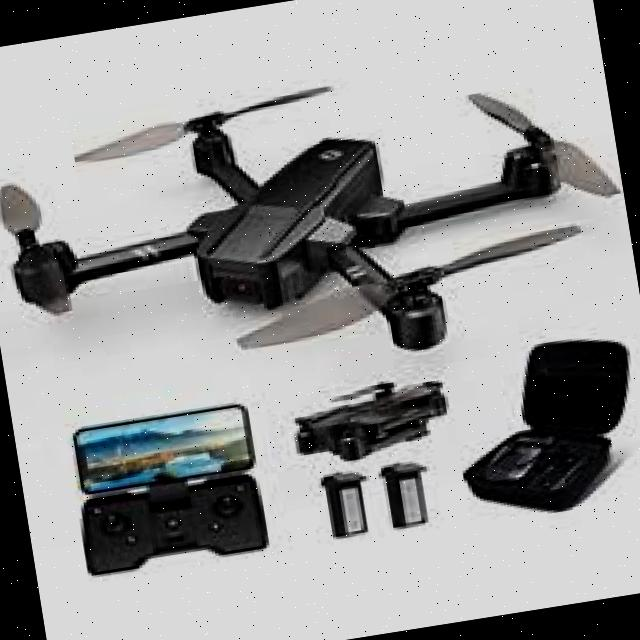drone: (0, 16, 640, 416)
